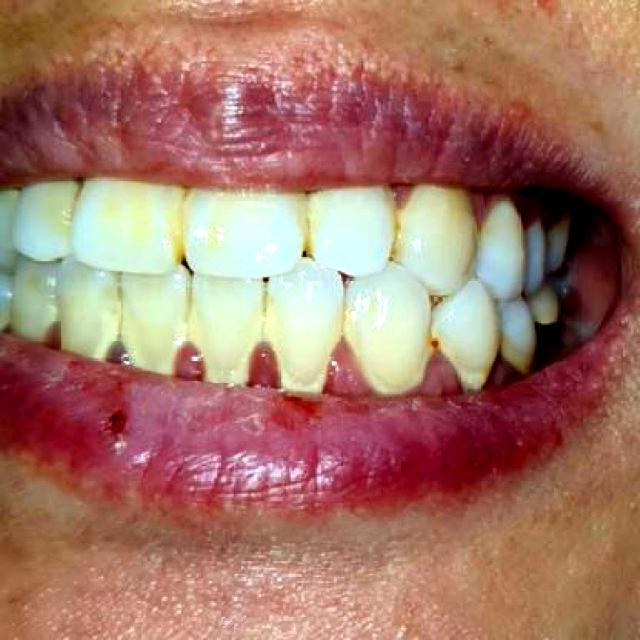Plaque: (167, 340, 466, 399), (482, 350, 528, 392), (102, 336, 136, 371), (389, 186, 414, 209), (426, 333, 454, 352), (43, 321, 60, 352)
